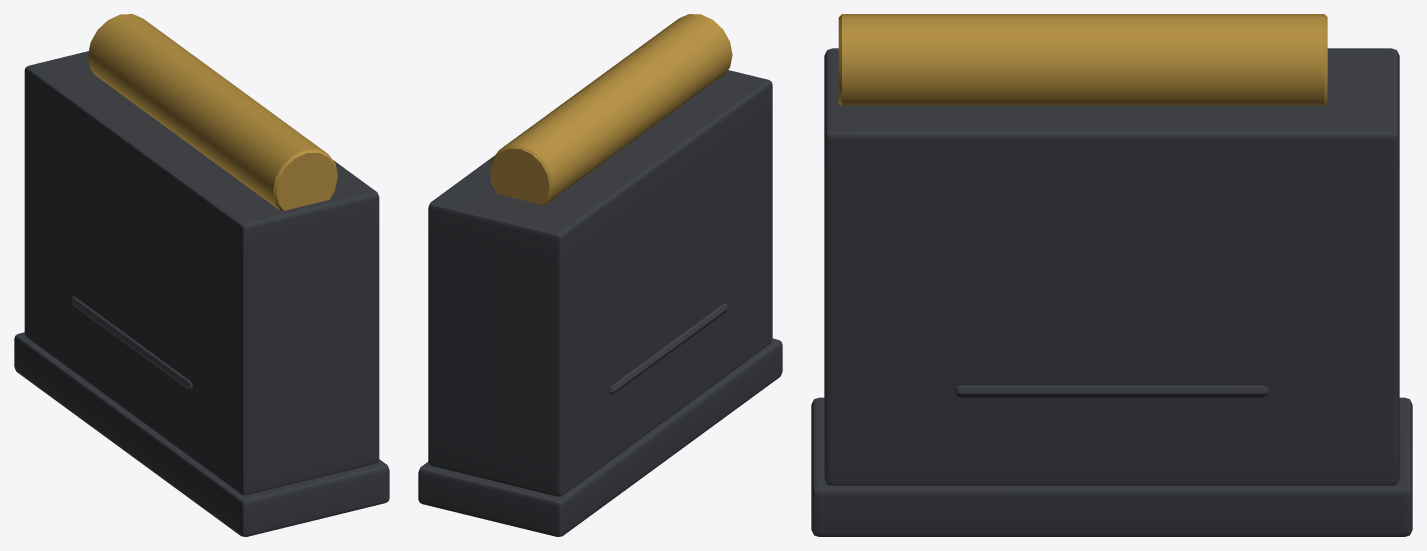
File: mod_condor_standard_mag.glb
The picture shows the model from 3 angles, left to right: view 1: azimuth 30°, elevation 25°; view 2: azimuth 150°, elevation 25°; view 3: azimuth 270°, elevation 25°; orthographic projection. The views are drawn at different scales.
Visible parts, largest first — view 1: Magazine, MagazineRound; view 2: Magazine, MagazineRound; view 3: Magazine, MagazineRound.
Part boxes in pixels (bbox=[...]): Magazine: bbox=[14, 51, 389, 536]; MagazineRound: bbox=[88, 14, 337, 210]; Magazine: bbox=[418, 70, 782, 536]; MagazineRound: bbox=[490, 14, 732, 204]; Magazine: bbox=[811, 48, 1412, 536]; MagazineRound: bbox=[838, 14, 1327, 105].
Bounding box in the file's own units: 0.0344 × 0.08 × 0.092.
